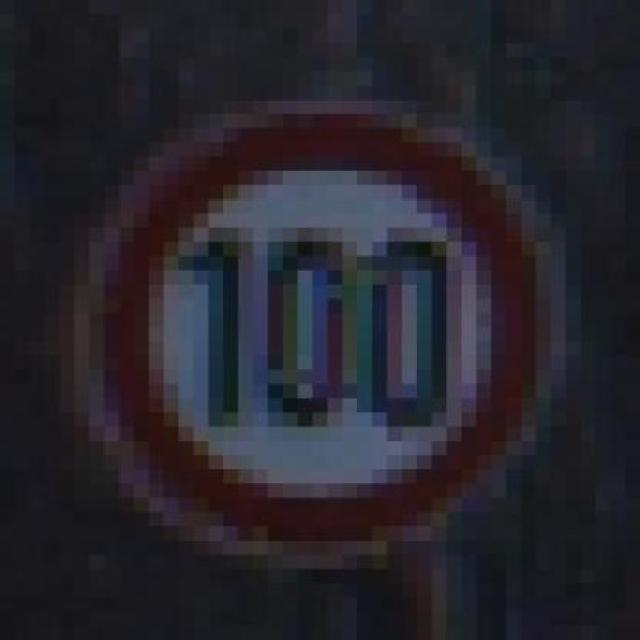forb_speed_over_100: (115, 112, 541, 545)
